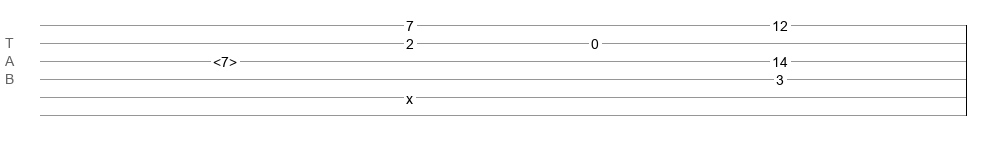0: (591, 36, 599, 46)
12: (772, 18, 788, 28)
14: (772, 54, 788, 64)
2: (406, 36, 414, 46)
3: (776, 72, 784, 82)
7: (406, 18, 414, 28)
harmonic: (213, 54, 237, 64)
x: (406, 91, 413, 99)
